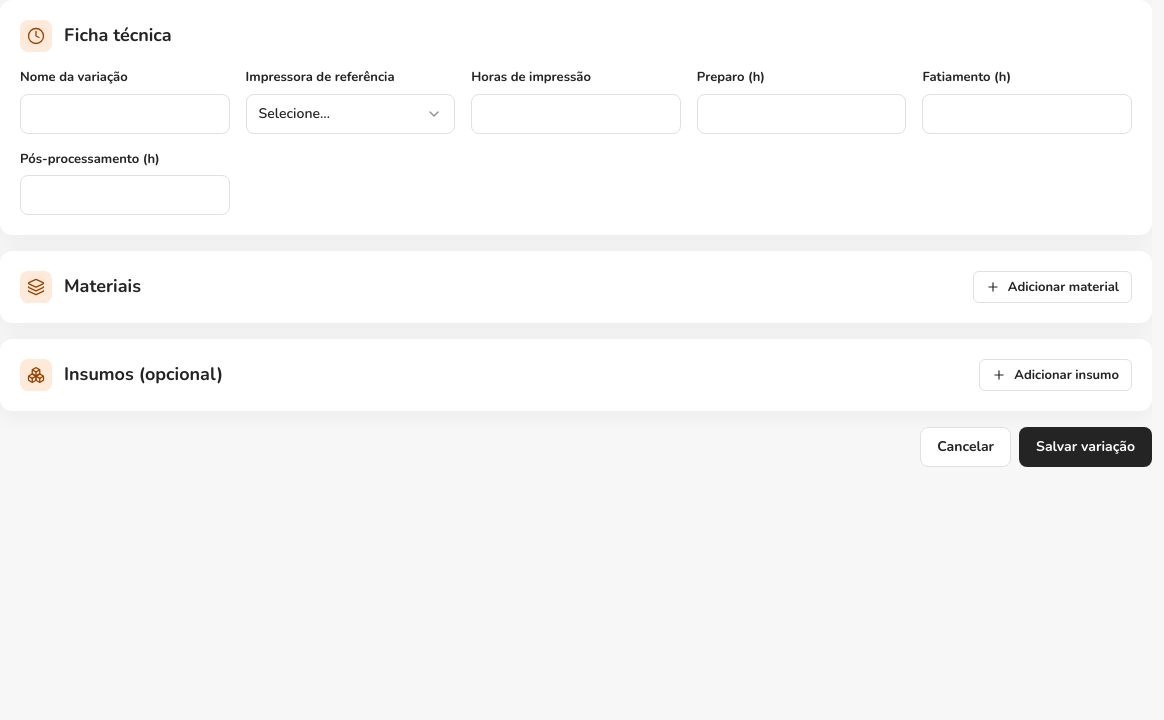
Test: ProductVariantEditor › offers only manual entry for non-MakerWorld products
Check: the field labelled "Nome da variação" is shown, box [20,94,230,134]
Click the button "Adicionar material" at [1052, 287], box [973,271,1132,303]
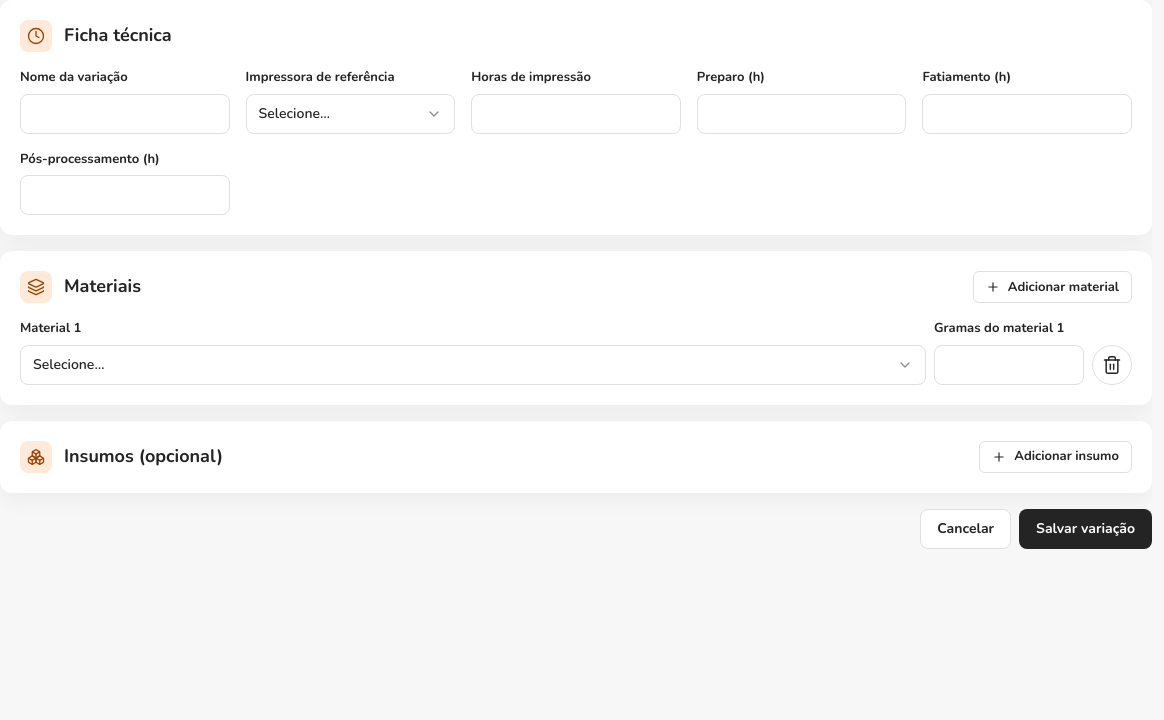
Click the button "Adicionar insumo" at [1056, 456], box [979,440,1132,472]
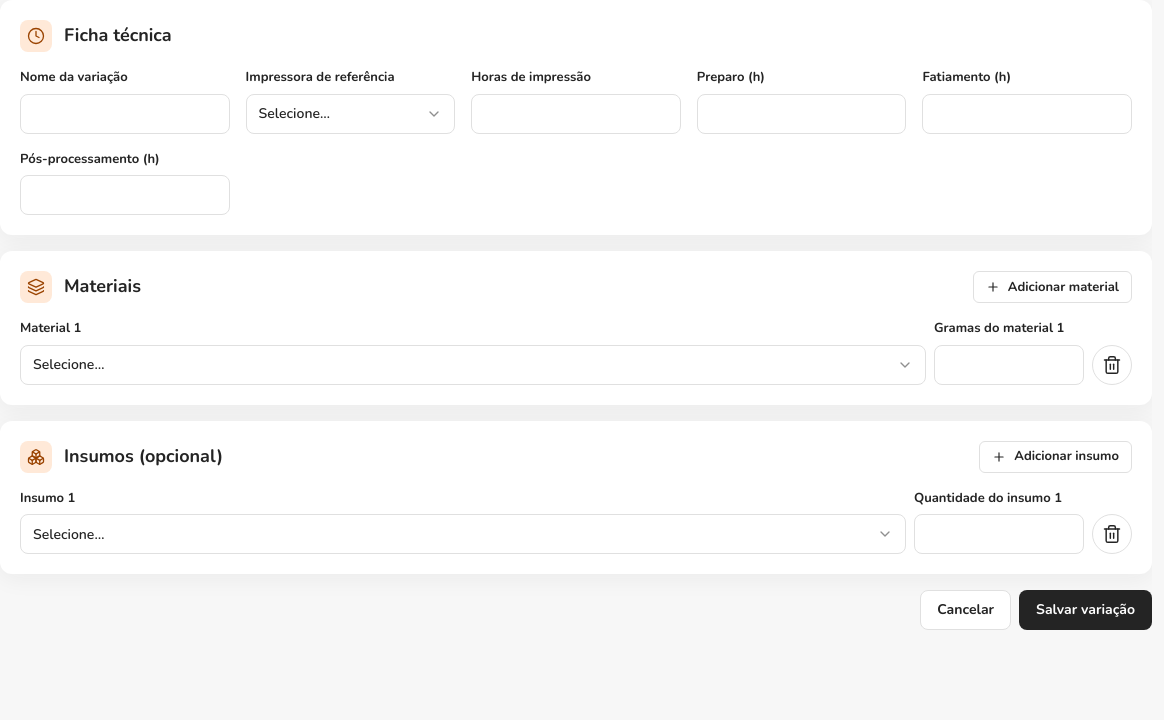
Check: the dropdown labelled "Material 1" is shown, box [20,344,926,384]
Check: the dropdown labelled "Insumo 1" is shown, box [20,514,906,554]
